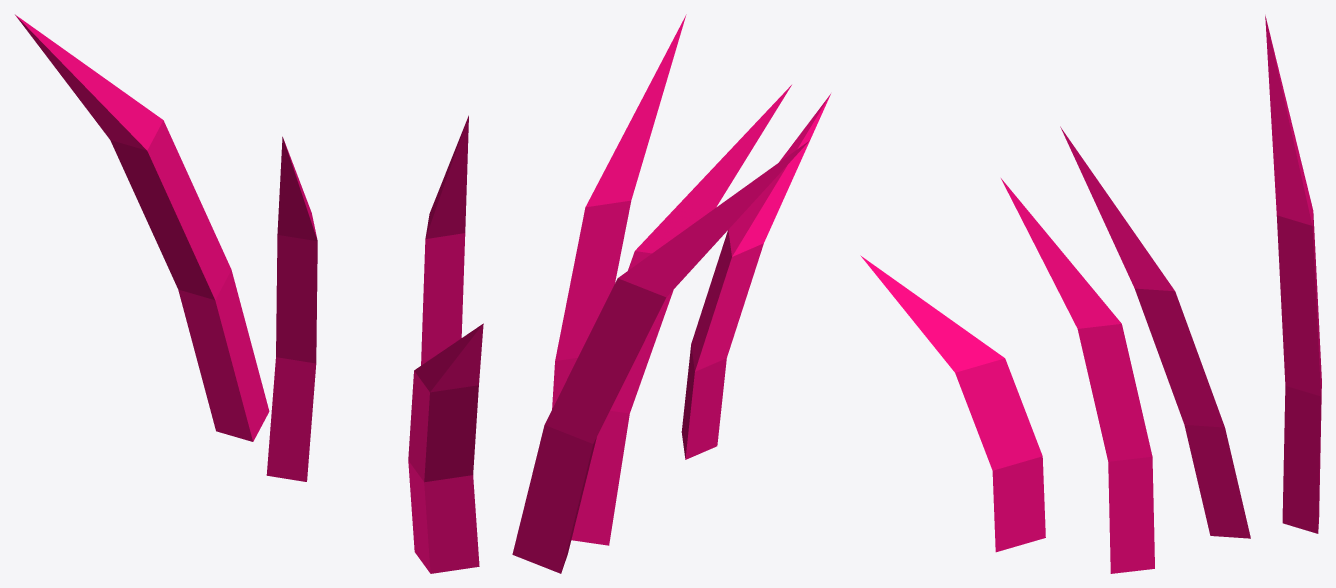
The model's file is SM_SS_Grass_1.fbx.
The picture shows the model from 3 angles, left to right: view 1: azimuth 30°, elevation 25°; view 2: azimuth 150°, elevation 25°; view 3: azimuth 270°, elevation 25°; orthographic projection. The views are drawn at different scales.
Parts seen in each view (by area): view 1: SM_SS_Grass_1; view 2: SM_SS_Grass_1; view 3: SM_SS_Grass_1.
Boxes of the visible parts, left/top/right/bottom form: SM_SS_Grass_1: left=15, top=14, right=483, bottom=573; SM_SS_Grass_1: left=512, top=14, right=830, bottom=573; SM_SS_Grass_1: left=860, top=15, right=1321, bottom=573.
Bounding box in the file's own units: 17.66 × 23.99 × 23.93.
